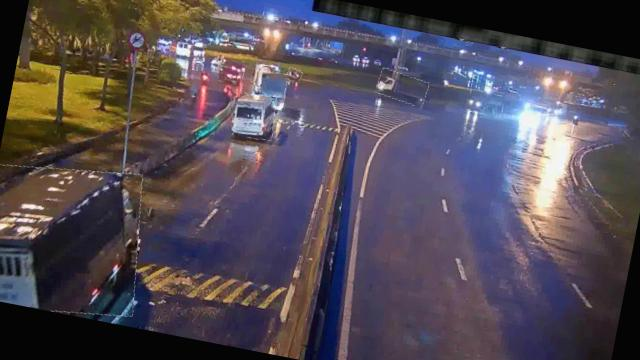Bike: (286, 68, 302, 82)
Bus: (232, 91, 278, 142)
Car: (218, 65, 244, 85)
Truck: (0, 151, 154, 324), (376, 68, 430, 106), (252, 70, 289, 109), (466, 88, 505, 118)
